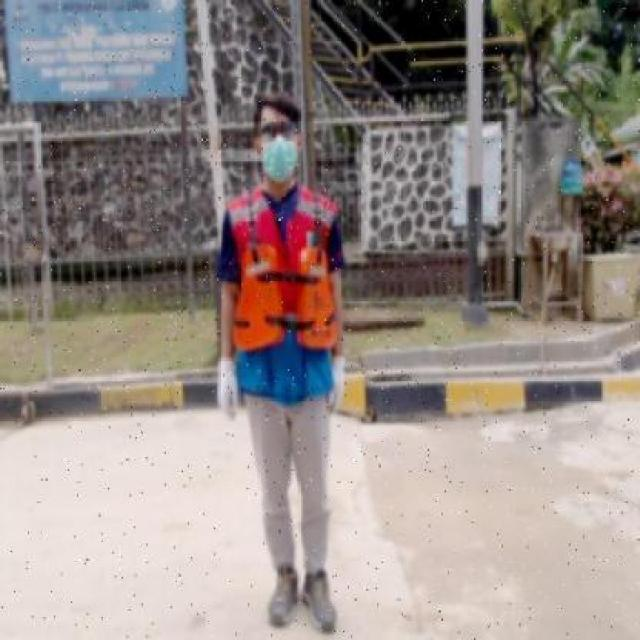Boots: (299, 568, 338, 635), (266, 564, 300, 628)
Gloves: (217, 355, 240, 420), (325, 353, 349, 415)
Mask: (262, 136, 298, 184)
Protective Glasses: (258, 125, 300, 138)
Vest: (232, 241, 339, 353)
